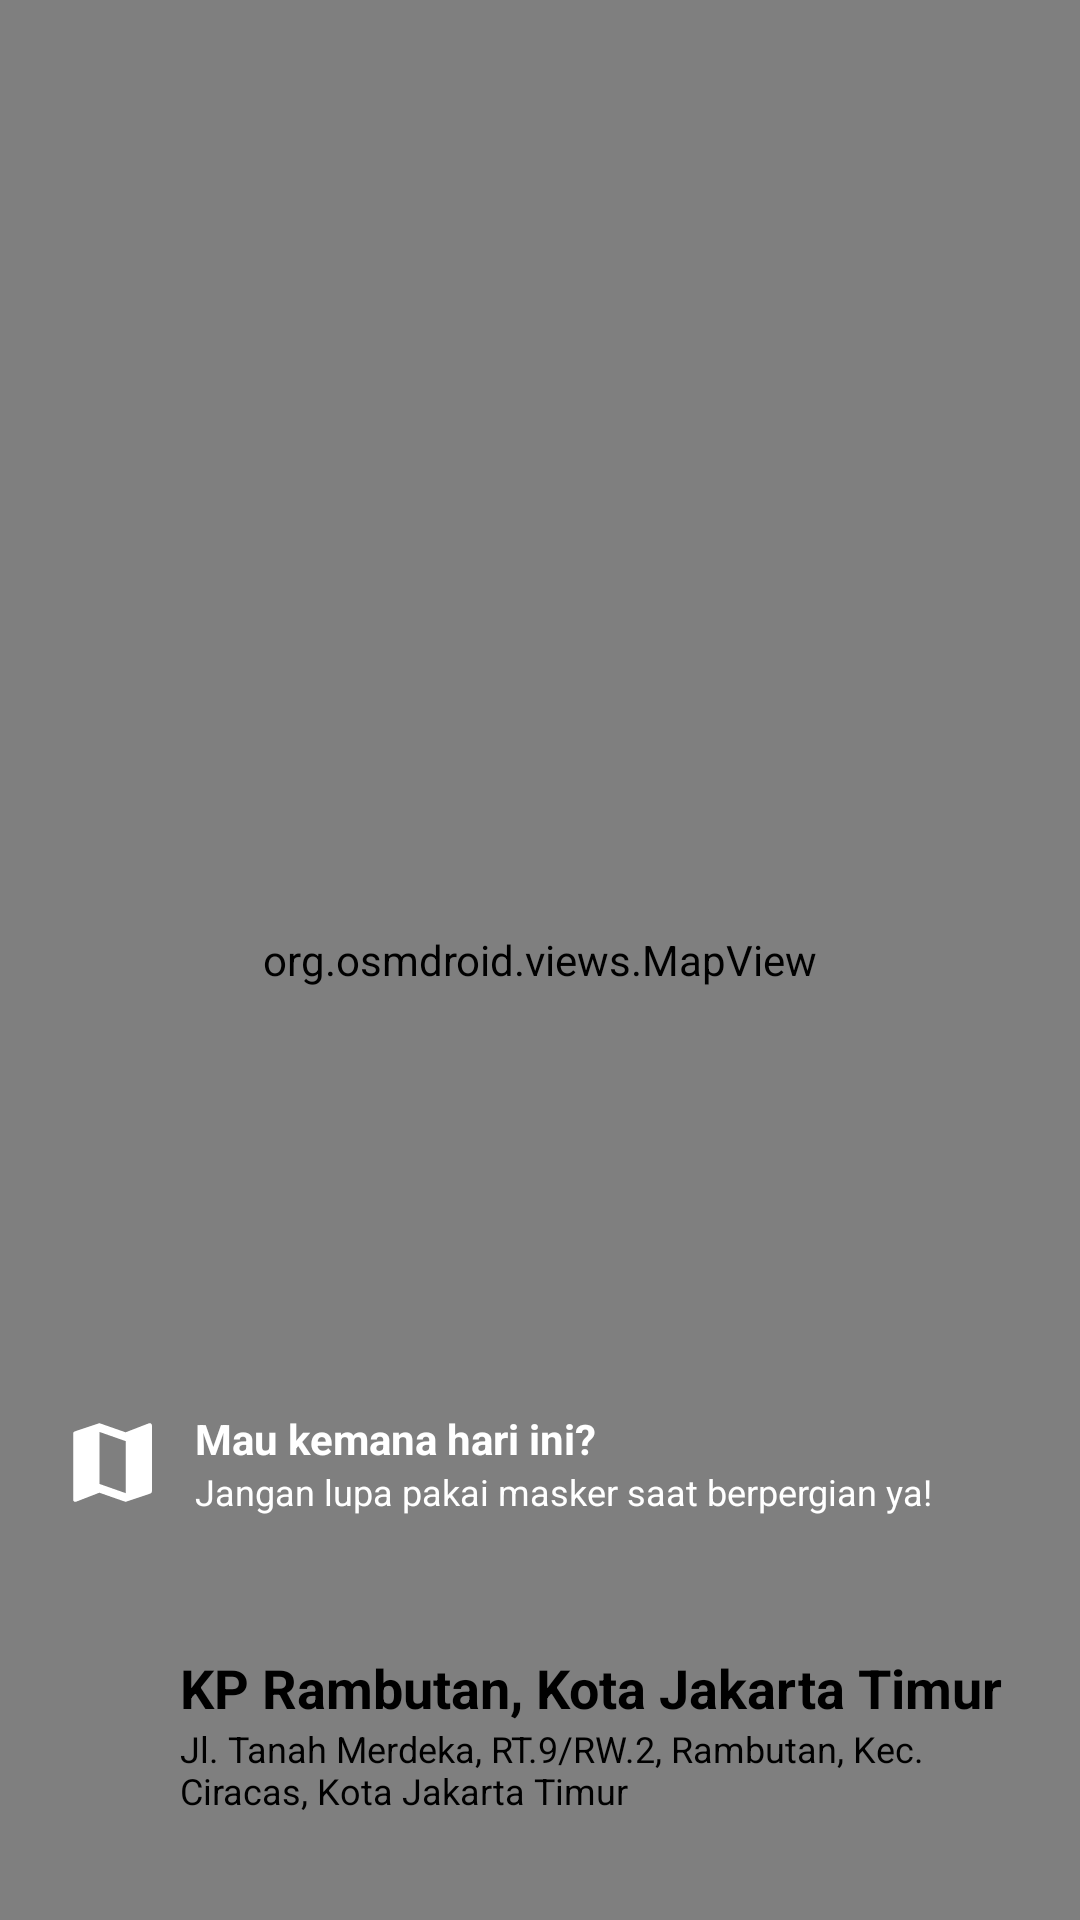

Where icons sit on this 1080w x 1920h app screen, as region(x1, y1, x2, y2):
map: region(73, 1423, 152, 1502)
